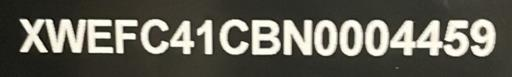letter: (44, 17, 88, 54), (217, 17, 249, 56), (250, 19, 282, 56), (17, 16, 47, 53), (86, 18, 116, 55), (139, 18, 169, 55), (283, 18, 313, 55), (470, 18, 496, 57), (417, 18, 443, 57), (113, 18, 139, 55), (364, 19, 390, 56), (390, 19, 416, 56), (444, 18, 468, 57), (170, 18, 194, 55), (314, 18, 338, 55), (339, 19, 363, 56), (195, 18, 215, 55)
